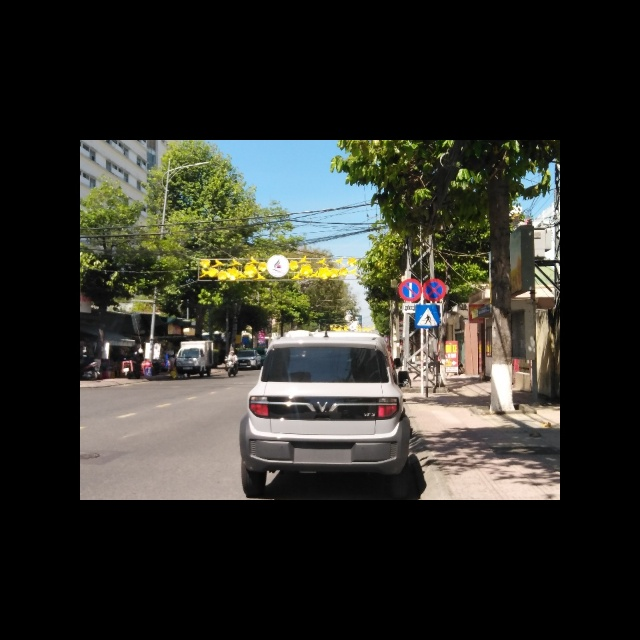Cấm dừng xe và đỗ xe: (423, 279, 446, 301)
Cấm đỗ xe ngày lẻ: (399, 278, 422, 301)
Đường dành cho người đi bộ: (415, 304, 439, 328)
